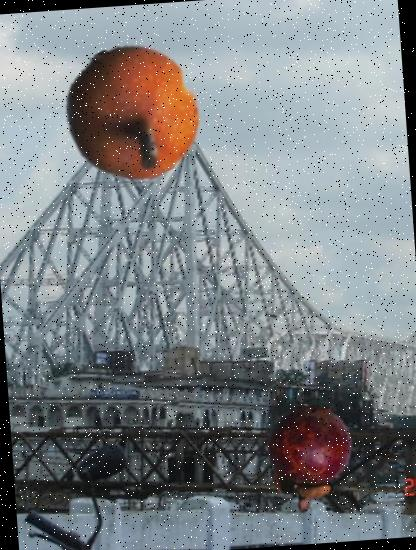Granadilla: (59, 39, 206, 186)
Mangostan: (250, 401, 366, 517)
